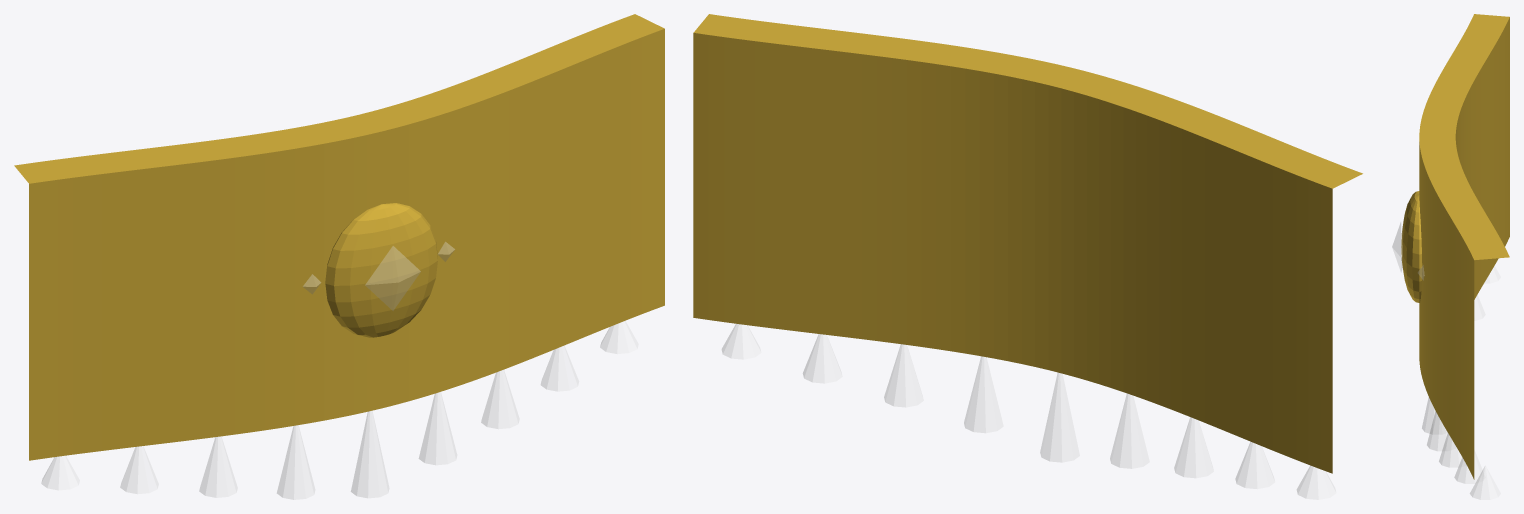
Rendered from diamond-choker.glb.
The picture shows the model from 3 angles, left to right: view 1: azimuth 30°, elevation 25°; view 2: azimuth 150°, elevation 25°; view 3: azimuth 270°, elevation 25°; orthographic projection. The views are drawn at different scales.
Visible parts, largest first — view 1: band, pendant, drop-4, pendant-gem, drop-3, drop-5, drop-2, drop-6, drop-1, drop-7, drop-0, drop-8; view 2: band, drop-4, drop-5, drop-3, drop-6, drop-2, drop-7, drop-1, drop-8, drop-0; view 3: band, pendant, drop-5, drop-8, drop-7, drop-6, drop-4, pendant-gem, drop-1, drop-0.
Boxes of the visible parts, x1,y1,x2,y2 form: band: [14, 14, 664, 460]; pendant: [325, 203, 437, 337]; drop-4: [351, 411, 389, 497]; pendant-gem: [365, 246, 420, 310]; drop-3: [277, 425, 314, 499]; drop-5: [419, 392, 456, 464]; drop-2: [199, 437, 237, 497]; drop-6: [481, 370, 519, 428]; drop-1: [120, 446, 158, 493]; drop-7: [541, 346, 578, 391]; drop-0: [41, 456, 79, 490]; drop-8: [600, 321, 638, 353]; band: [693, 14, 1362, 473]; drop-4: [1040, 373, 1079, 462]; drop-5: [964, 356, 1003, 432]; drop-3: [1110, 394, 1149, 468]; drop-6: [884, 344, 923, 407]; drop-2: [1174, 417, 1213, 477]; drop-7: [803, 334, 842, 383]; drop-1: [1235, 442, 1274, 488]; drop-8: [722, 324, 760, 359]; drop-0: [1297, 466, 1335, 499]; band: [1419, 14, 1509, 479]; pendant: [1401, 191, 1422, 302]; drop-5: [1427, 412, 1455, 450]; drop-8: [1470, 466, 1500, 499]; drop-7: [1454, 450, 1484, 483]; drop-6: [1439, 434, 1465, 467]; drop-4: [1422, 398, 1447, 433]; pendant-gem: [1392, 222, 1402, 271]; drop-1: [1474, 295, 1485, 320]; drop-0: [1484, 266, 1500, 283].
Size of the model in its own units: 192 by 106 by 38.9.
